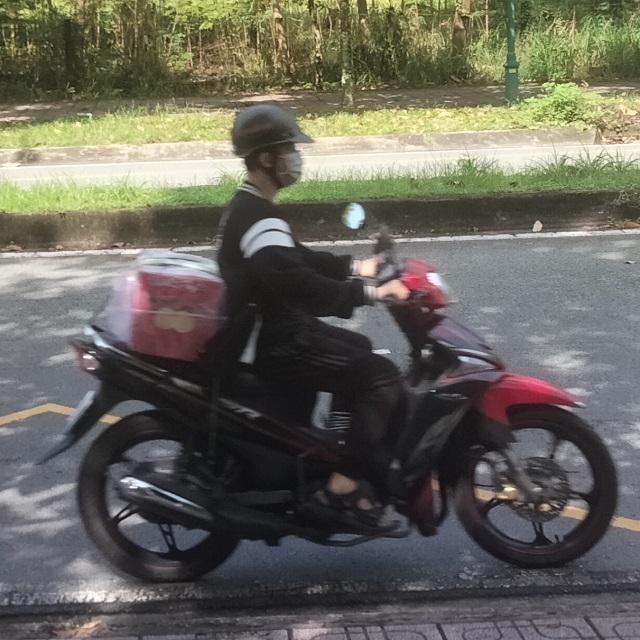Helmet: (228, 98, 320, 192)
